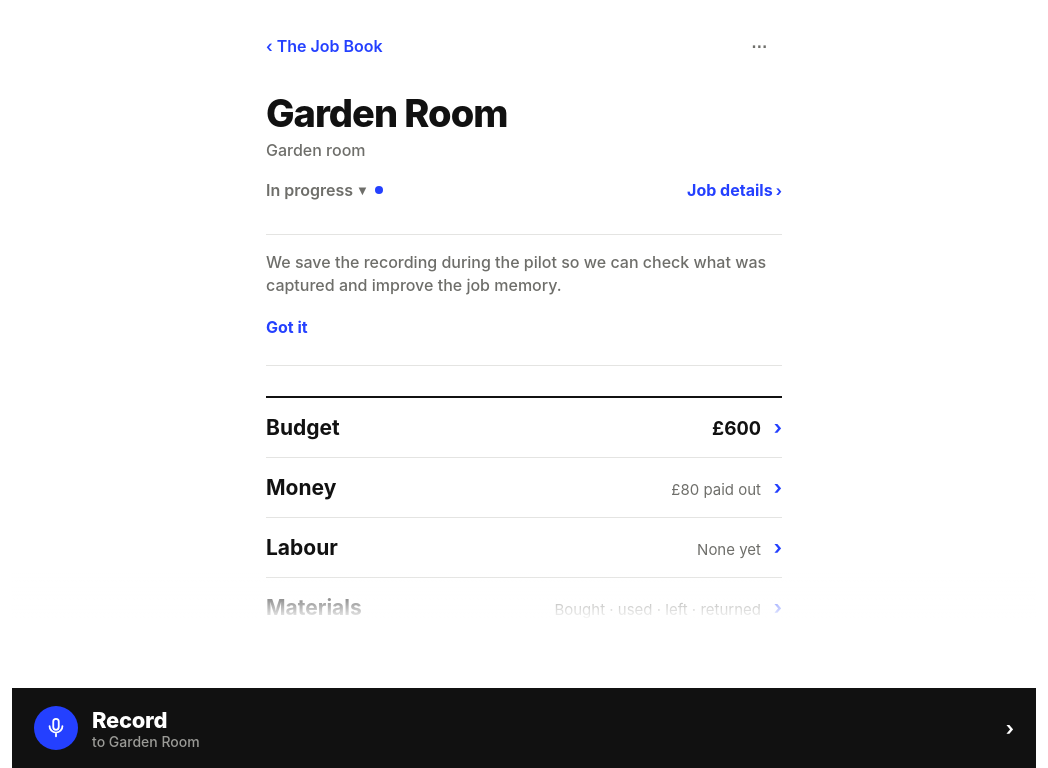
Scenario: Money — section › shows Uncategorised for a source-linked Money out row without category context
The image size is (1048, 768).
Step 1. Click the button with aria-label "Open Money" → click(301, 488), box [266,458,782,518]
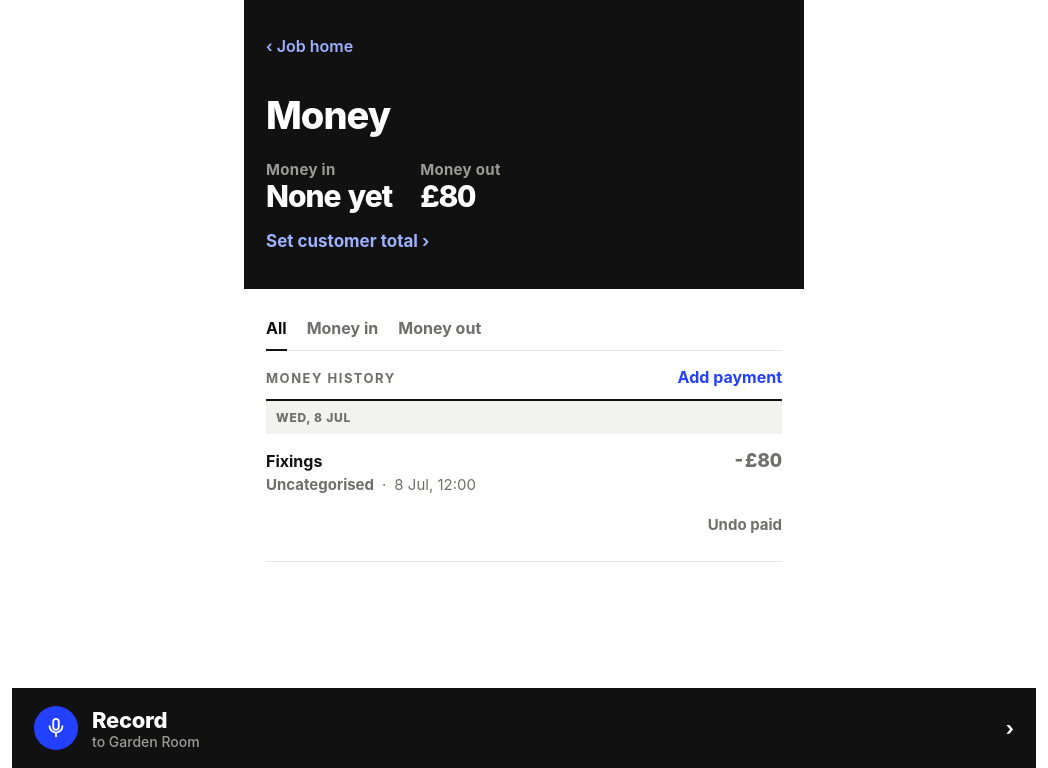
Now the panel "Money" is shown, box [266,134,782,562]
Now the text "Fixings" is shown, box [266,451,322,471]
Now the text "Uncategorised" is shown, box [266,475,374,494]
